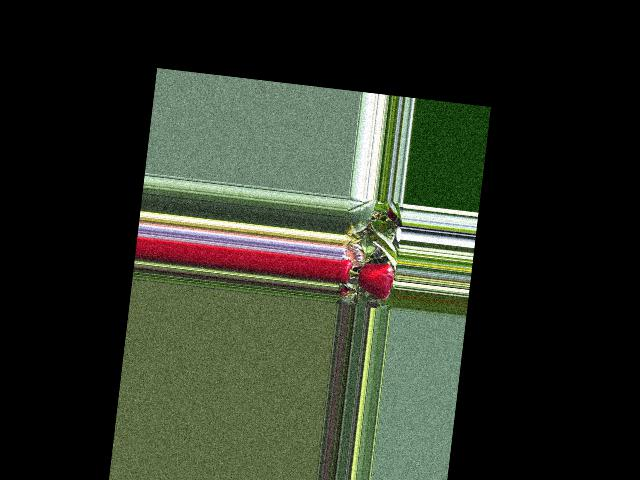bell_pepper: (337, 256, 355, 286)
